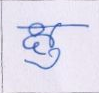u_matra: (23, 50, 63, 70)
